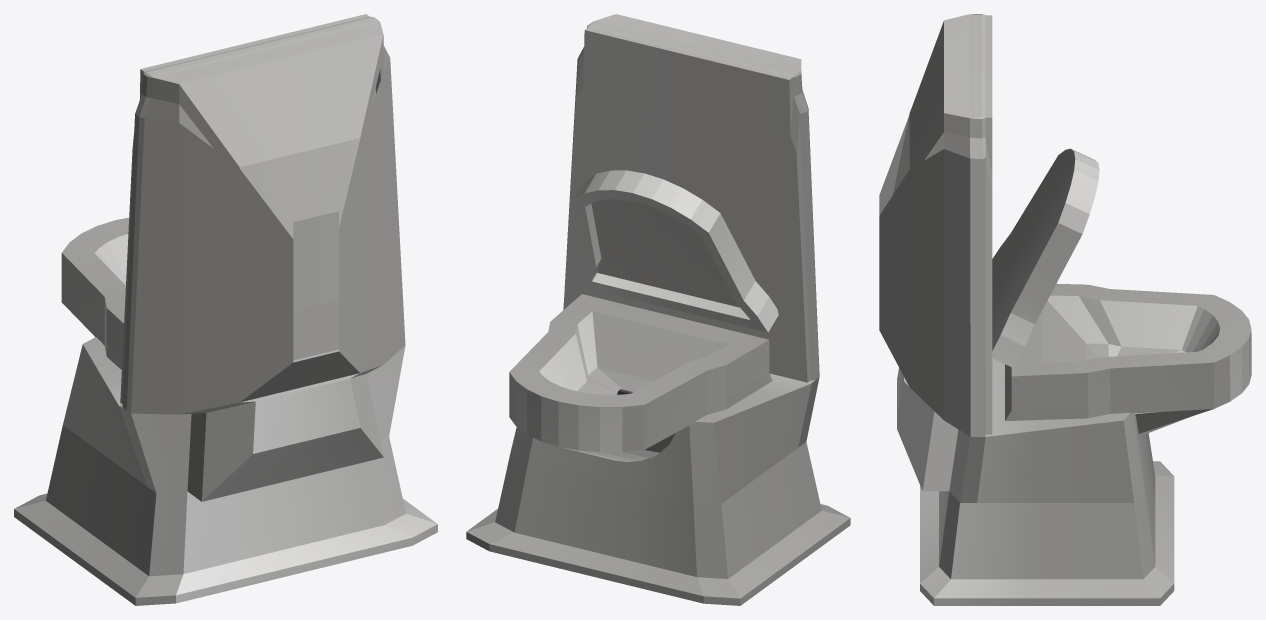
Rendered from privada.fbx.
The picture shows the model from 3 angles, left to right: view 1: azimuth 30°, elevation 25°; view 2: azimuth 150°, elevation 25°; view 3: azimuth 270°, elevation 25°; orthographic projection. The views are drawn at different scales.
Parts seen in each view (by area): view 1: privada; view 2: privada; view 3: privada.
Boxes of the visible parts, x1,y1,x2,y2 form: privada: (14,14,437,605); privada: (466,14,850,605); privada: (879,14,1251,605).
Bounding box in the file's own units: 110 × 176 × 126.
Materials: 1 (1 with a texture image).
